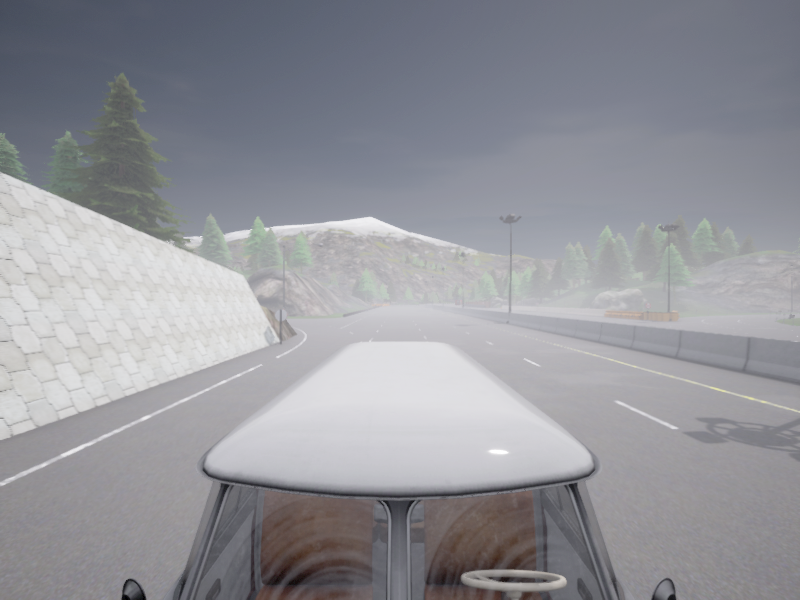vehicle: (121, 342, 675, 599), (456, 299, 461, 304)
